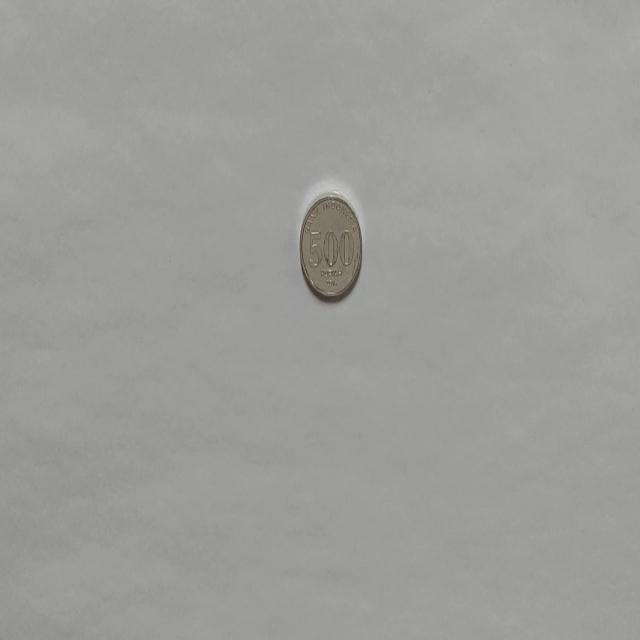lima ratus rupiah: (298, 191, 362, 302)
